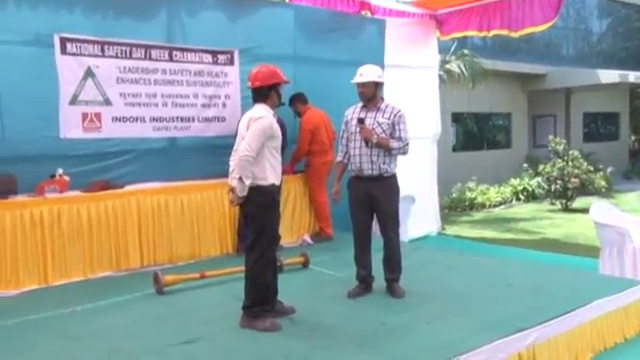helmet: (245, 61, 290, 89), (349, 62, 387, 86)
helmet_off: (287, 88, 311, 118)
helmet_on: (243, 59, 291, 113), (348, 61, 390, 110)
person: (226, 59, 299, 334), (331, 61, 408, 300), (287, 88, 335, 246)
